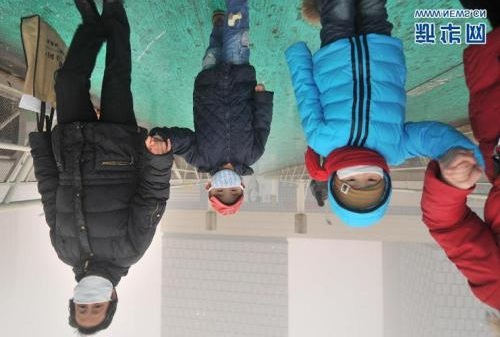person: (29, 3, 171, 336), (288, 1, 415, 223), (423, 1, 500, 325), (183, 3, 273, 214)
